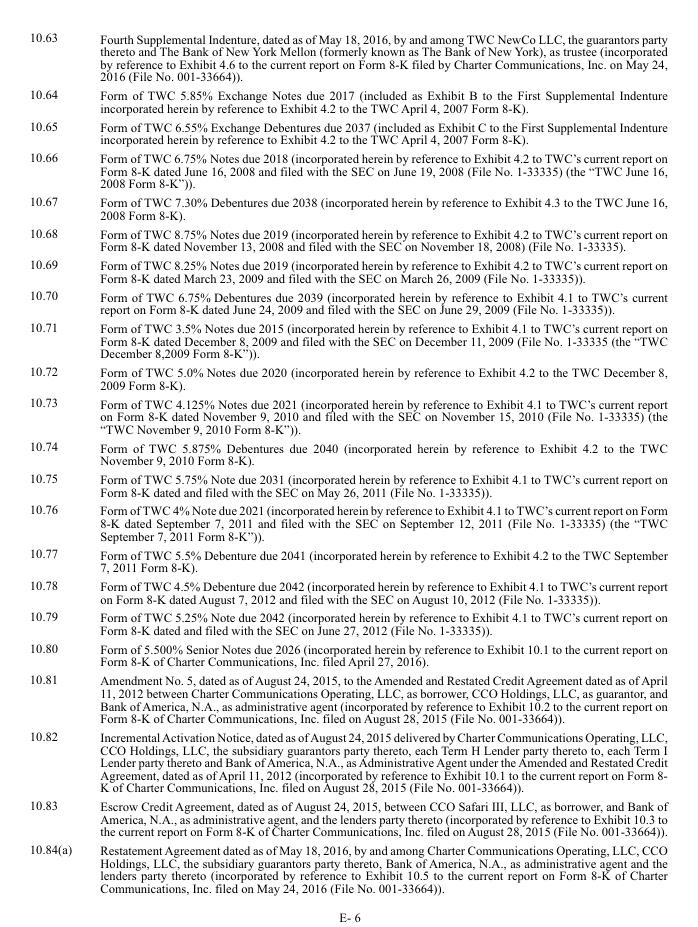table: (28, 28, 666, 895)
table column: (85, 28, 666, 895), (28, 28, 85, 895)
table row: (28, 726, 666, 795), (28, 669, 666, 726), (28, 28, 666, 84), (28, 839, 666, 895), (28, 147, 666, 191), (28, 317, 666, 361), (28, 393, 666, 437), (28, 500, 666, 544), (28, 795, 666, 839), (28, 84, 666, 116), (28, 191, 666, 223), (28, 254, 666, 286), (28, 361, 666, 393), (28, 468, 666, 500), (28, 575, 666, 607), (28, 116, 666, 147), (28, 223, 666, 254), (28, 286, 666, 317), (28, 437, 666, 468), (28, 544, 666, 575), (28, 607, 666, 638), (28, 638, 666, 669)
